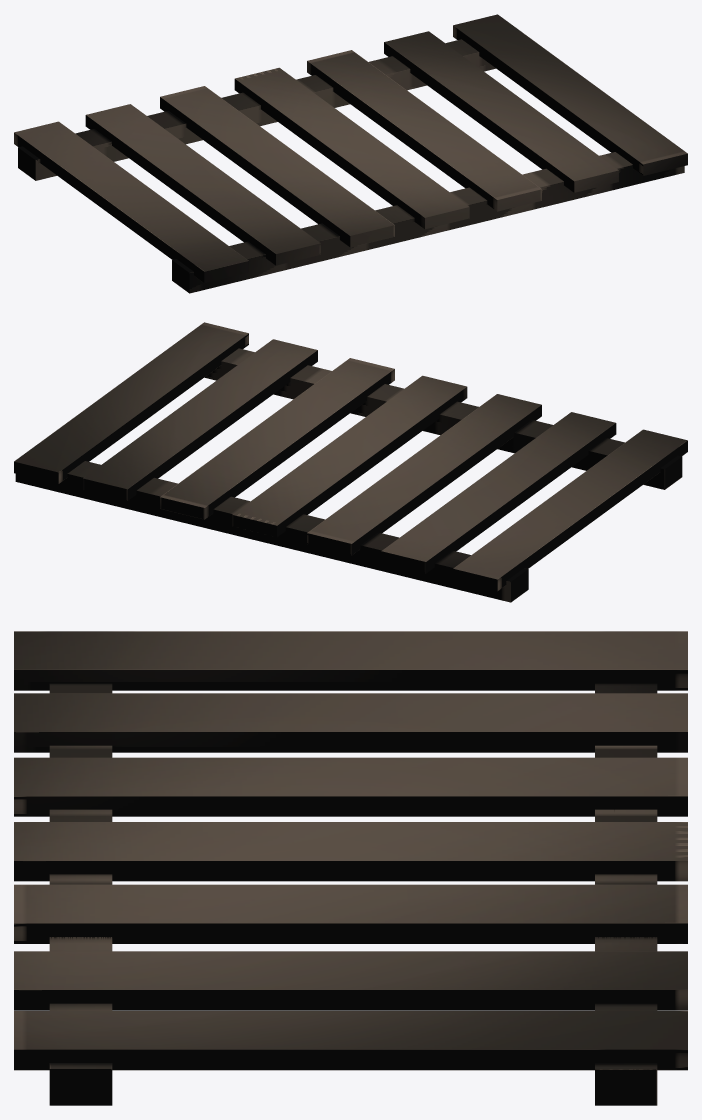
The model's file is Wood pallete.fbx.
The picture shows the model from 3 angles, top to bottom: view 1: azimuth 30°, elevation 25°; view 2: azimuth 150°, elevation 25°; view 3: azimuth 270°, elevation 25°; orthographic projection. The views are drawn at different scales.
Parts seen in each view (by area): view 1: Cube.001; view 2: Cube.001; view 3: Cube.001.
Boxes of the visible parts, left/top/right/bottom form: Cube.001: left=14, top=14, right=687, bottom=293; Cube.001: left=14, top=322, right=687, bottom=602; Cube.001: left=14, top=631, right=687, bottom=1105.
Size of the model in its own units: 1219 by 66.41 by 811.
1 material, 1 textured.
